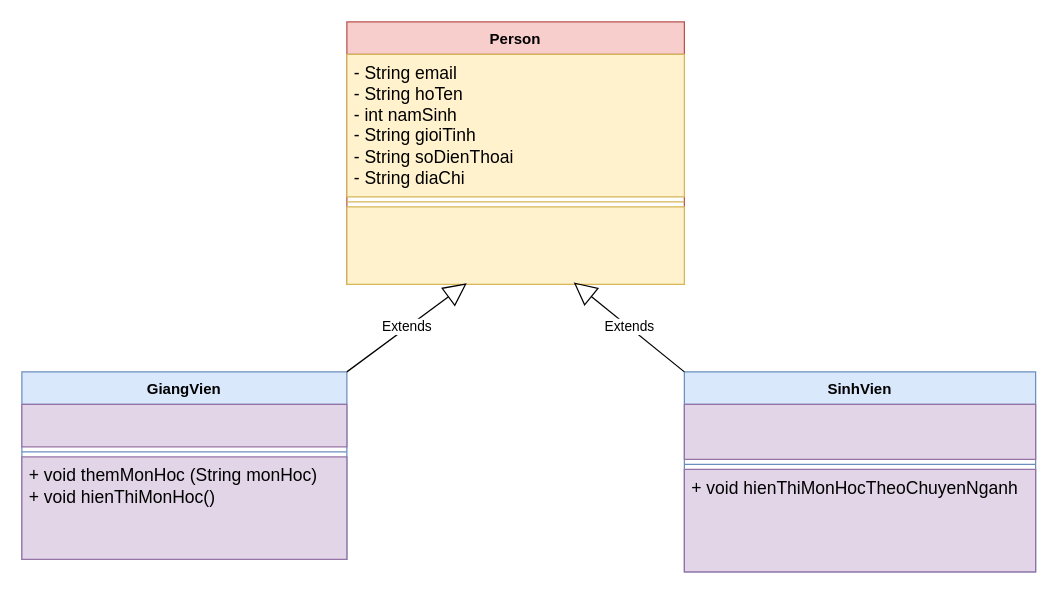
The diagram is 1058 pixels wide and 598 high, and some of its shapes have lost their labels. Here are the shapes that lost their labels. From the top down, the centre of each, then its label:
At point 515,245: "+ void hienThiThongTin + void thayDoiSoDienThoai + void thayDoiDiaChi".
At point 184,425: "- Array monHoc".
At point 859,431: "- String chuyenNganh".
